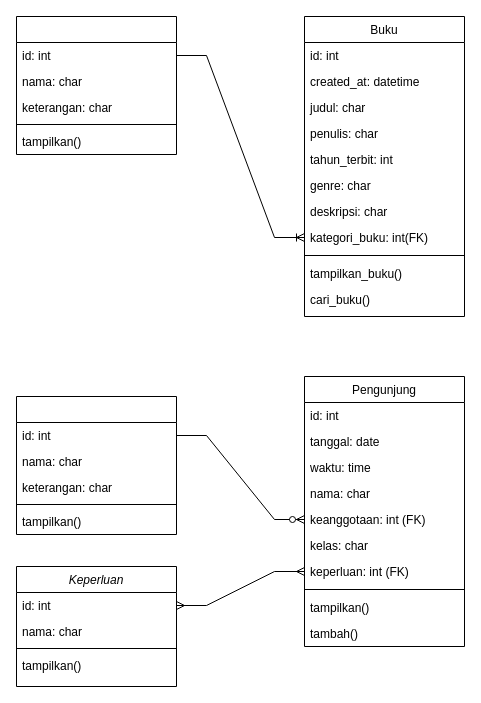
Some shapes in this 481 by 703 pixel diagram are drawn without their labels. The shapes that lost their labels are listed below. From the top down, each one's box as (x1, y1, x2, y2) in pixels, then its label:
(16, 16, 176, 154): Kategori_buku
(16, 396, 176, 534): Keanggotaan
